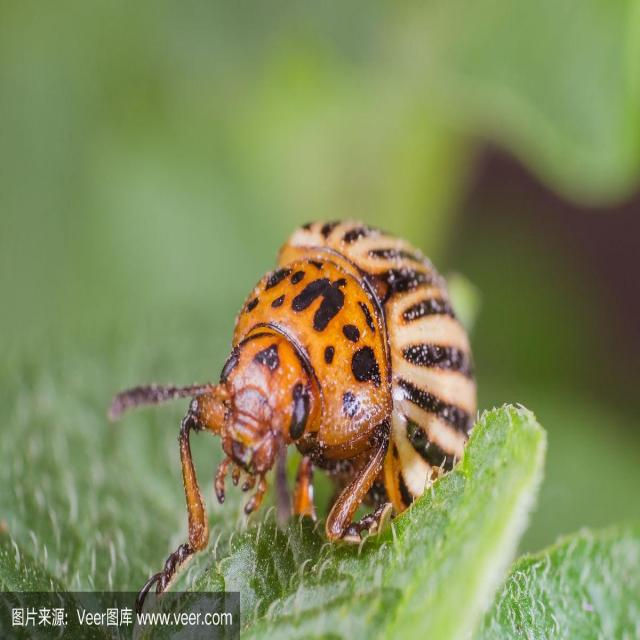ShuCaiHuaBanChong-Grown-: (209, 199, 483, 534)
